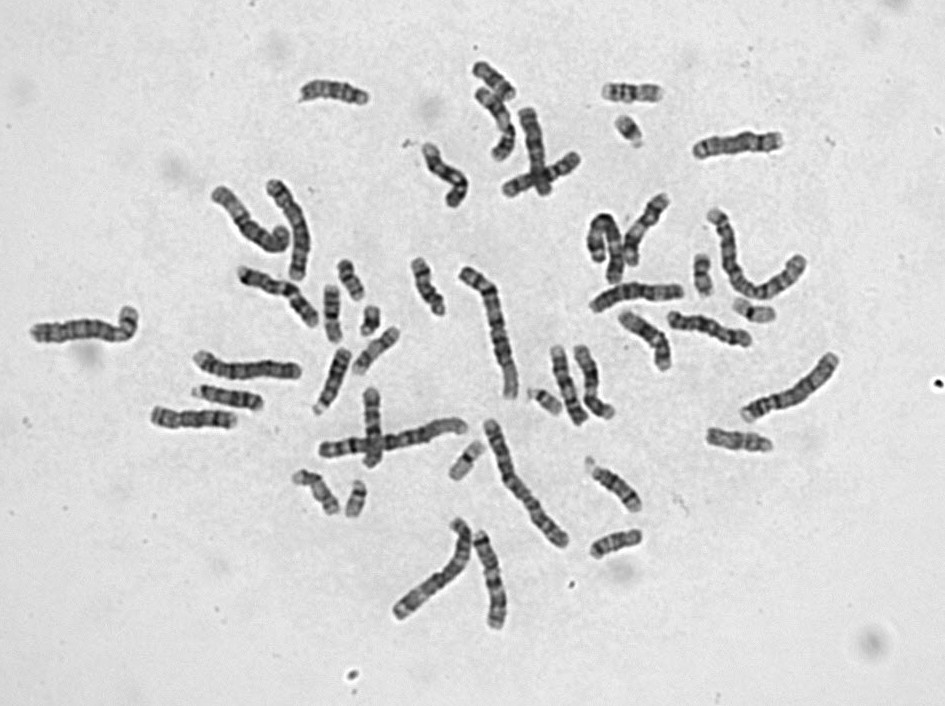chromosomes: (477, 413, 574, 552), (701, 201, 809, 302), (381, 514, 476, 621), (455, 263, 523, 402), (733, 348, 846, 425), (309, 416, 472, 460), (208, 182, 294, 258), (32, 298, 144, 354), (234, 265, 326, 328), (265, 173, 313, 280), (498, 147, 585, 200), (185, 345, 302, 383), (614, 307, 680, 373), (569, 341, 621, 422), (581, 451, 647, 514), (665, 306, 757, 351), (623, 192, 675, 271), (418, 137, 474, 210), (474, 528, 512, 634), (546, 343, 592, 428), (679, 130, 787, 164), (475, 86, 520, 164), (585, 280, 685, 315), (585, 208, 628, 289), (518, 106, 554, 198), (311, 343, 353, 418), (145, 402, 242, 433), (351, 327, 405, 382), (290, 468, 346, 520), (409, 254, 450, 319), (295, 79, 374, 112), (187, 384, 267, 415), (468, 57, 521, 103), (584, 525, 647, 563), (359, 384, 386, 471), (702, 426, 775, 458), (596, 80, 669, 106), (444, 440, 487, 484), (610, 112, 650, 153), (337, 256, 369, 306), (320, 283, 347, 342), (728, 297, 783, 324), (689, 251, 719, 300), (525, 387, 565, 420), (343, 479, 373, 521), (359, 303, 381, 341)
